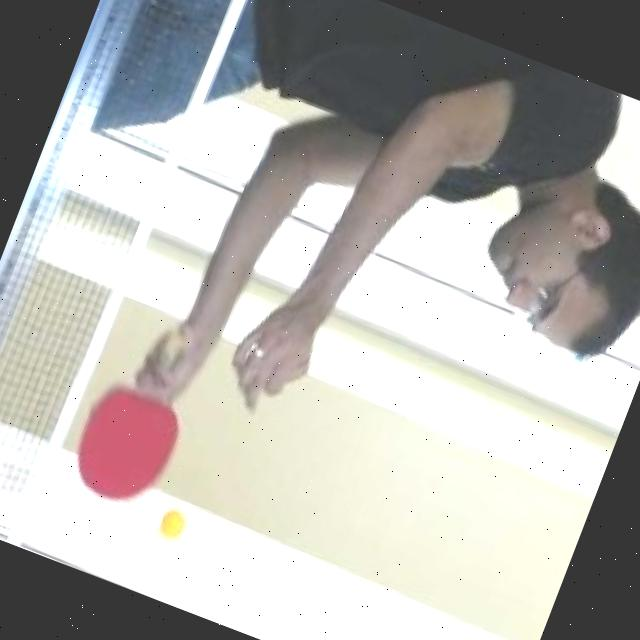ping-pong-ball: (154, 503, 192, 544)
